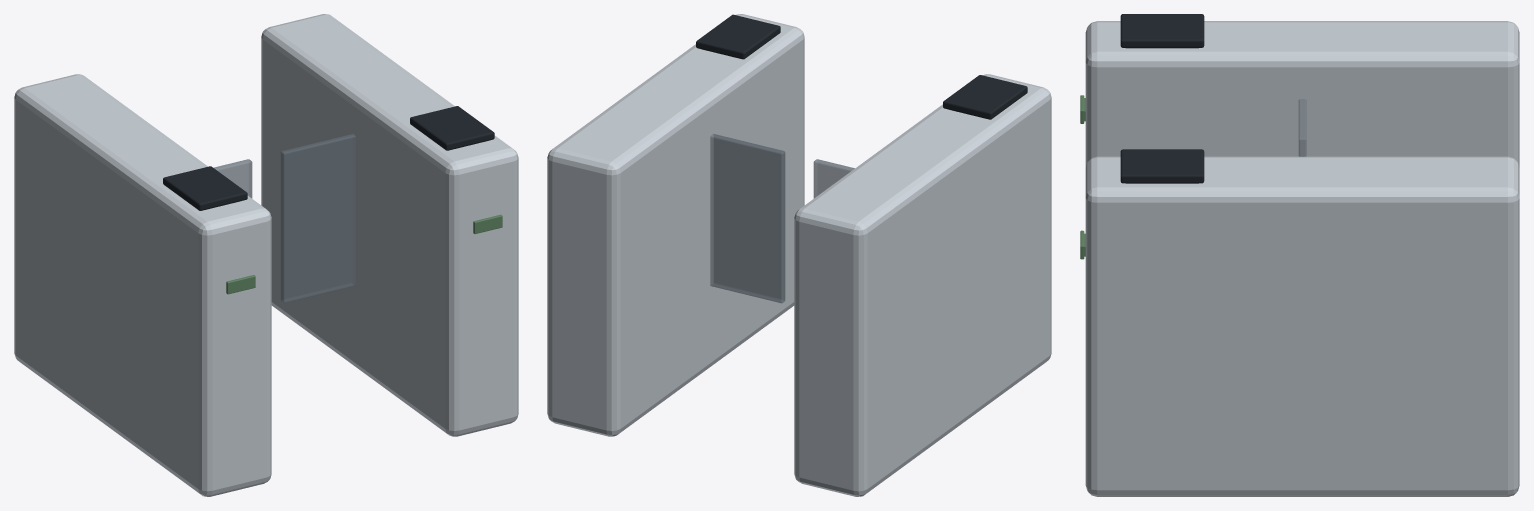
Rendered from e-gate.glb.
The picture shows the model from 3 angles, left to right: view 1: azimuth 30°, elevation 25°; view 2: azimuth 150°, elevation 25°; view 3: azimuth 270°, elevation 25°; orthographic projection. The views are drawn at different scales.
Parts seen in each view (by area): view 1: Fare gate cabinet, Closed transparent gate wing, Contactless ticket reader, Gate indicator backing insert; view 2: Fare gate cabinet, Closed transparent gate wing, Contactless ticket reader; view 3: Fare gate cabinet, Contactless ticket reader, Closed transparent gate wing.
Part boxes in pixels (left/top/right/bottom): Fare gate cabinet: left=14, top=14, right=518, bottom=496; Closed transparent gate wing: left=213, top=133, right=355, bottom=303; Contactless ticket reader: left=163, top=106, right=494, bottom=210; Gate indicator backing insert: left=226, top=214, right=502, bottom=294; Fare gate cabinet: left=547, top=14, right=1051, bottom=496; Closed transparent gate wing: left=710, top=133, right=854, bottom=303; Contactless ticket reader: left=696, top=14, right=1027, bottom=119; Fare gate cabinet: left=1085, top=21, right=1519, bottom=496; Contactless ticket reader: left=1120, top=14, right=1204, bottom=183; Closed transparent gate wing: left=1298, top=99, right=1306, bottom=156.
Bounding box in the file's own units: 1.24 × 1.05 × 1.32.
Materials: 4 (3 with a texture image).
